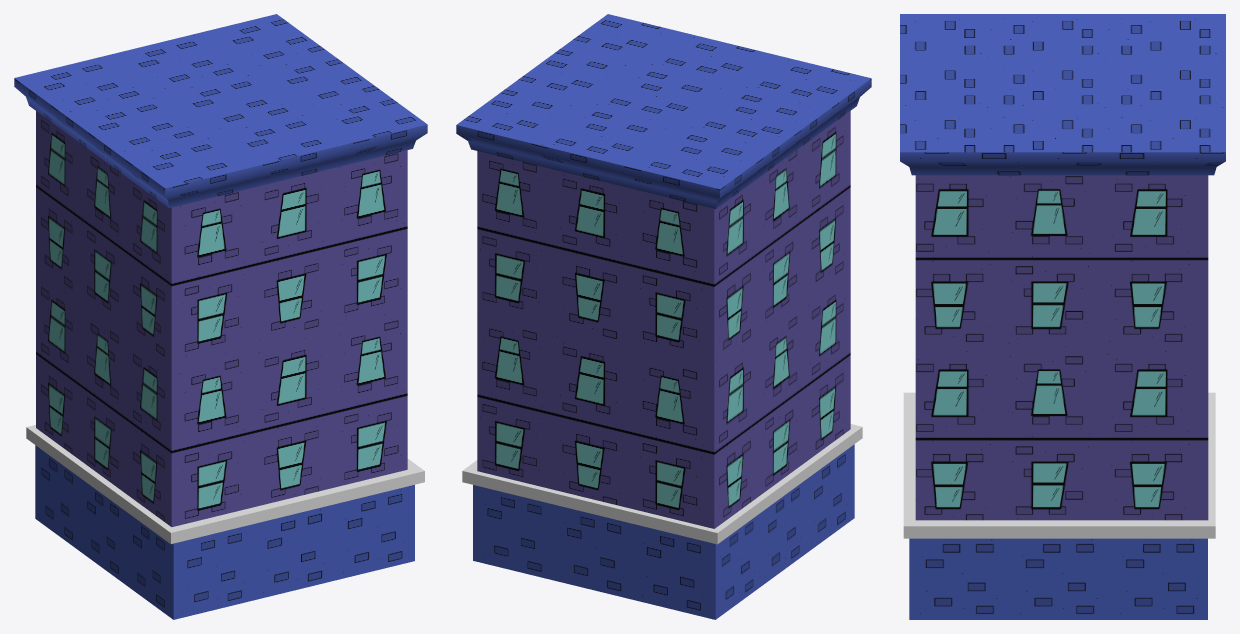
The picture shows the model from 3 angles, left to right: view 1: azimuth 30°, elevation 25°; view 2: azimuth 150°, elevation 25°; view 3: azimuth 270°, elevation 25°; orthographic projection. The views are drawn at different scales.
Parts seen in each view (by area): view 1: Box003, Box004, Box001, Box002; view 2: Box003, Box004, Box001, Box002; view 3: Box003, Box004, Box001, Box002.
Part boxes in pixels (bbox=[...]): Box003: bbox=[36, 111, 407, 526]; Box004: bbox=[14, 14, 427, 208]; Box001: bbox=[35, 445, 414, 619]; Box002: bbox=[26, 425, 424, 543]; Box003: bbox=[477, 111, 850, 528]; Box004: bbox=[456, 14, 871, 208]; Box001: bbox=[473, 444, 854, 619]; Box002: bbox=[462, 424, 862, 544]; Box003: bbox=[915, 175, 1208, 520]; Box004: bbox=[900, 14, 1225, 175]; Box001: bbox=[909, 538, 1207, 619]; Box002: bbox=[903, 392, 1215, 538].
Size of the model in its own units: 8.28 by 13.2 by 8.25.
